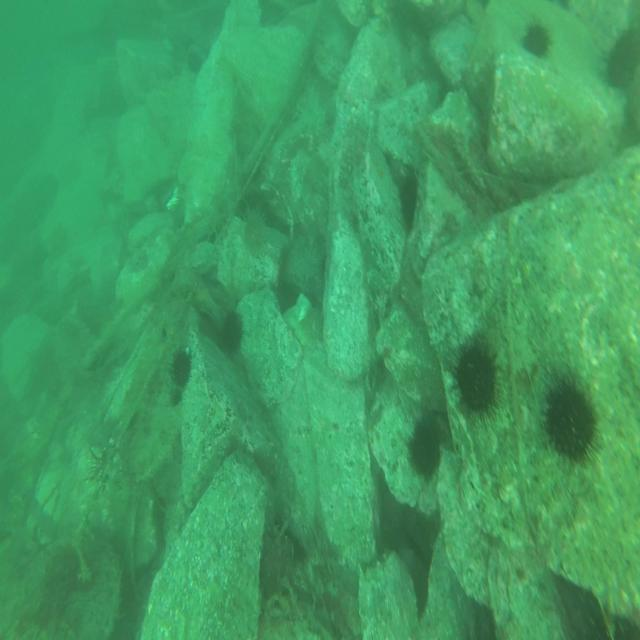echinus: (537, 362, 602, 476), (445, 337, 505, 424), (403, 416, 449, 484), (603, 26, 640, 91), (238, 207, 272, 265), (395, 168, 422, 234), (520, 15, 554, 62), (220, 308, 243, 355), (166, 348, 196, 384)
holothurian: (261, 108, 314, 200), (432, 134, 481, 210), (338, 108, 367, 208)
